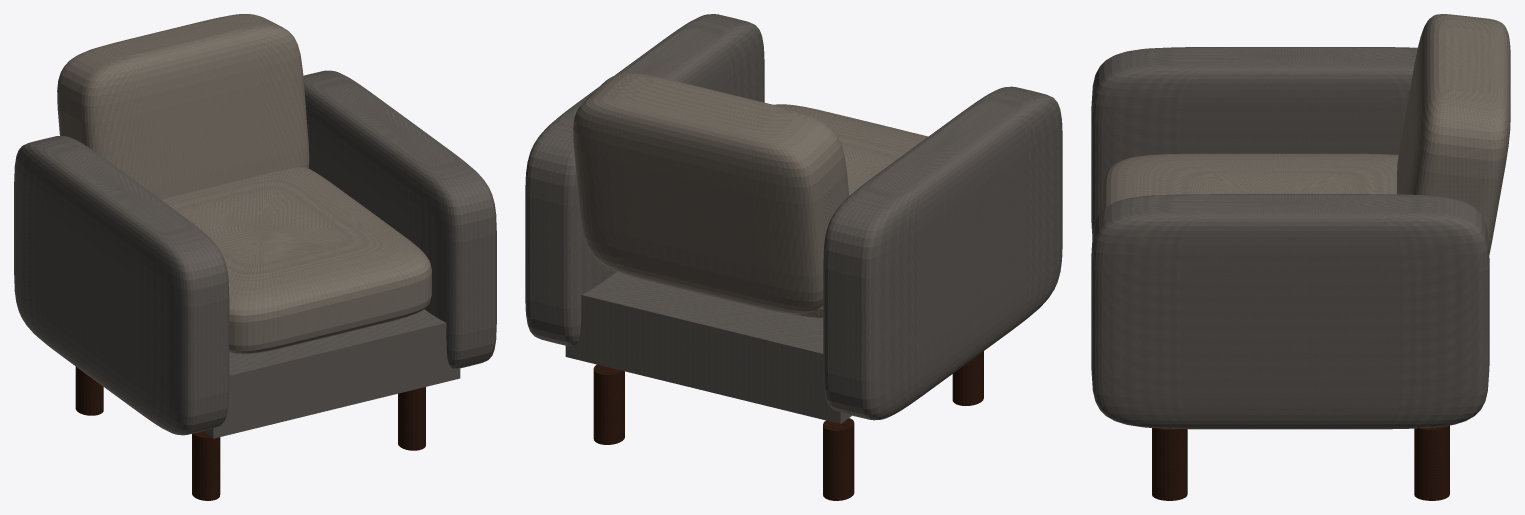
File: armchair.glb
3 views of the same model, side by side, from view 1: azimuth 30°, elevation 25°; view 2: azimuth 150°, elevation 25°; view 3: azimuth 270°, elevation 25° (orthographic). The views are drawn at different scales.
Parts seen in each view (by area): view 1: arm_left, back, seat, arm_right, base, leg_3, leg_4, leg_1; view 2: arm_left, back, base, arm_right, seat, leg_1, leg_2, leg_3; view 3: arm_right, arm_left, back, seat, leg_2, leg_4.
Boxes of the visible parts, bbox=[...] form: arm_left: bbox=[14, 136, 229, 435]; back: bbox=[57, 14, 309, 199]; seat: bbox=[161, 167, 431, 354]; arm_right: bbox=[303, 70, 496, 368]; base: bbox=[203, 309, 460, 438]; leg_3: bbox=[192, 431, 220, 500]; leg_4: bbox=[398, 387, 425, 450]; leg_1: bbox=[75, 366, 103, 415]; arm_left: bbox=[823, 86, 1062, 420]; back: bbox=[573, 73, 849, 314]; base: bbox=[565, 272, 851, 423]; arm_right: bbox=[525, 14, 764, 345]; seat: bbox=[773, 104, 928, 318]; leg_1: bbox=[823, 418, 854, 500]; leg_2: bbox=[593, 364, 624, 444]; leg_3: bbox=[952, 351, 983, 405]; arm_right: bbox=[1091, 194, 1489, 429]; arm_left: bbox=[1091, 47, 1417, 237]; back: bbox=[1397, 14, 1510, 254]; seat: bbox=[1102, 153, 1398, 210]; leg_2: bbox=[1414, 425, 1449, 500]; leg_4: bbox=[1152, 428, 1187, 500].
Bounding box in the file's own units: 0.9 × 0.9 × 0.9.
3 materials, 3 textured.
